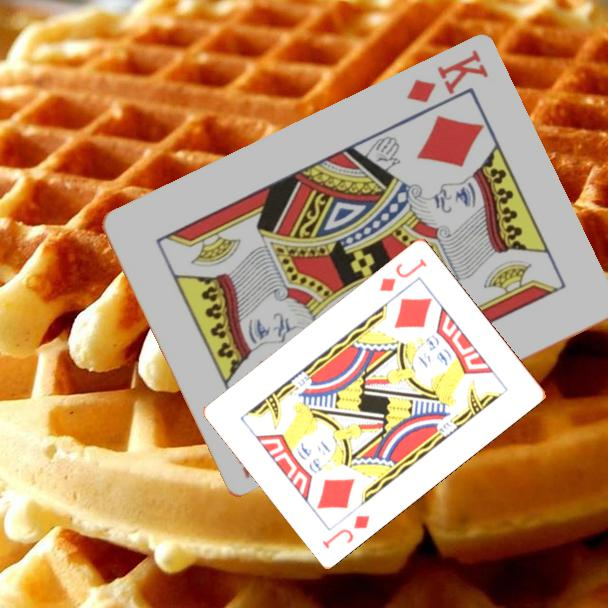d11: (318, 511, 373, 552), (376, 254, 430, 294)
d13: (402, 46, 491, 107)
